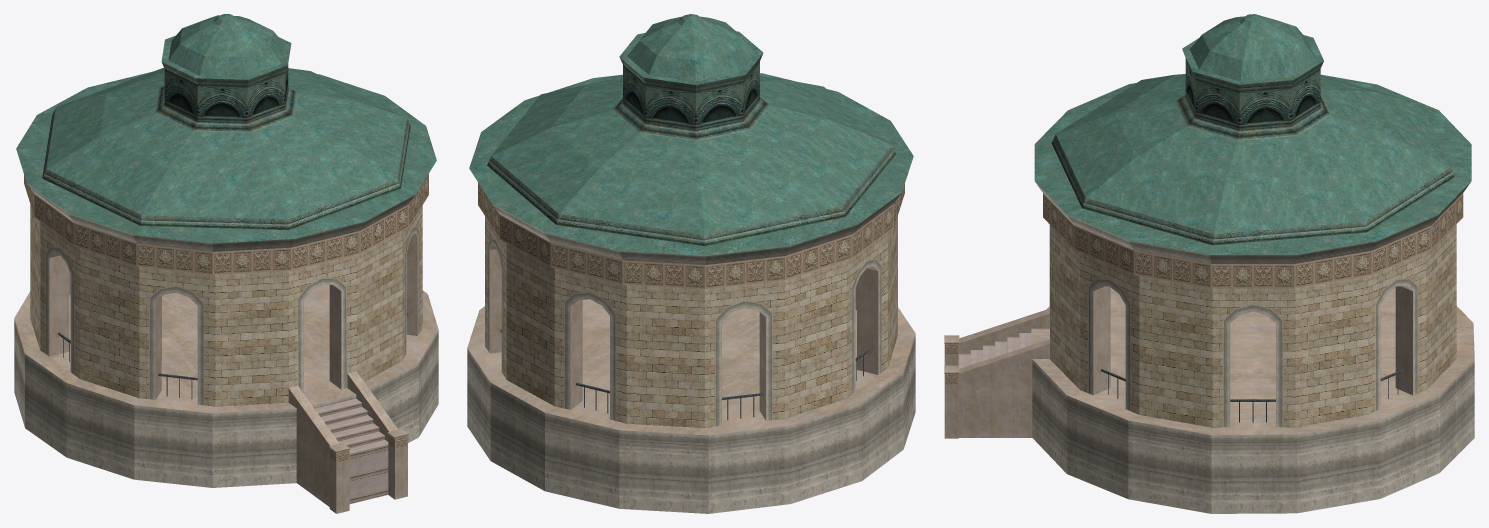
The model's file is thm_nboo_thed_imprv_building_s09_l0.fbx.
The picture shows the model from 3 angles, left to right: view 1: azimuth 30°, elevation 25°; view 2: azimuth 150°, elevation 25°; view 3: azimuth 270°, elevation 25°; orthographic projection. The views are drawn at different scales.
Visible parts, largest first — view 1: mesh_node; view 2: mesh_node; view 3: mesh_node.
Boxes of the visible parts, left/top/right/bottom form: mesh_node: left=14, top=14, right=438, bottom=513; mesh_node: left=467, top=14, right=915, bottom=513; mesh_node: left=944, top=14, right=1474, bottom=513.
Size of the model in its own units: 16.4 by 16.51 by 19.62.
